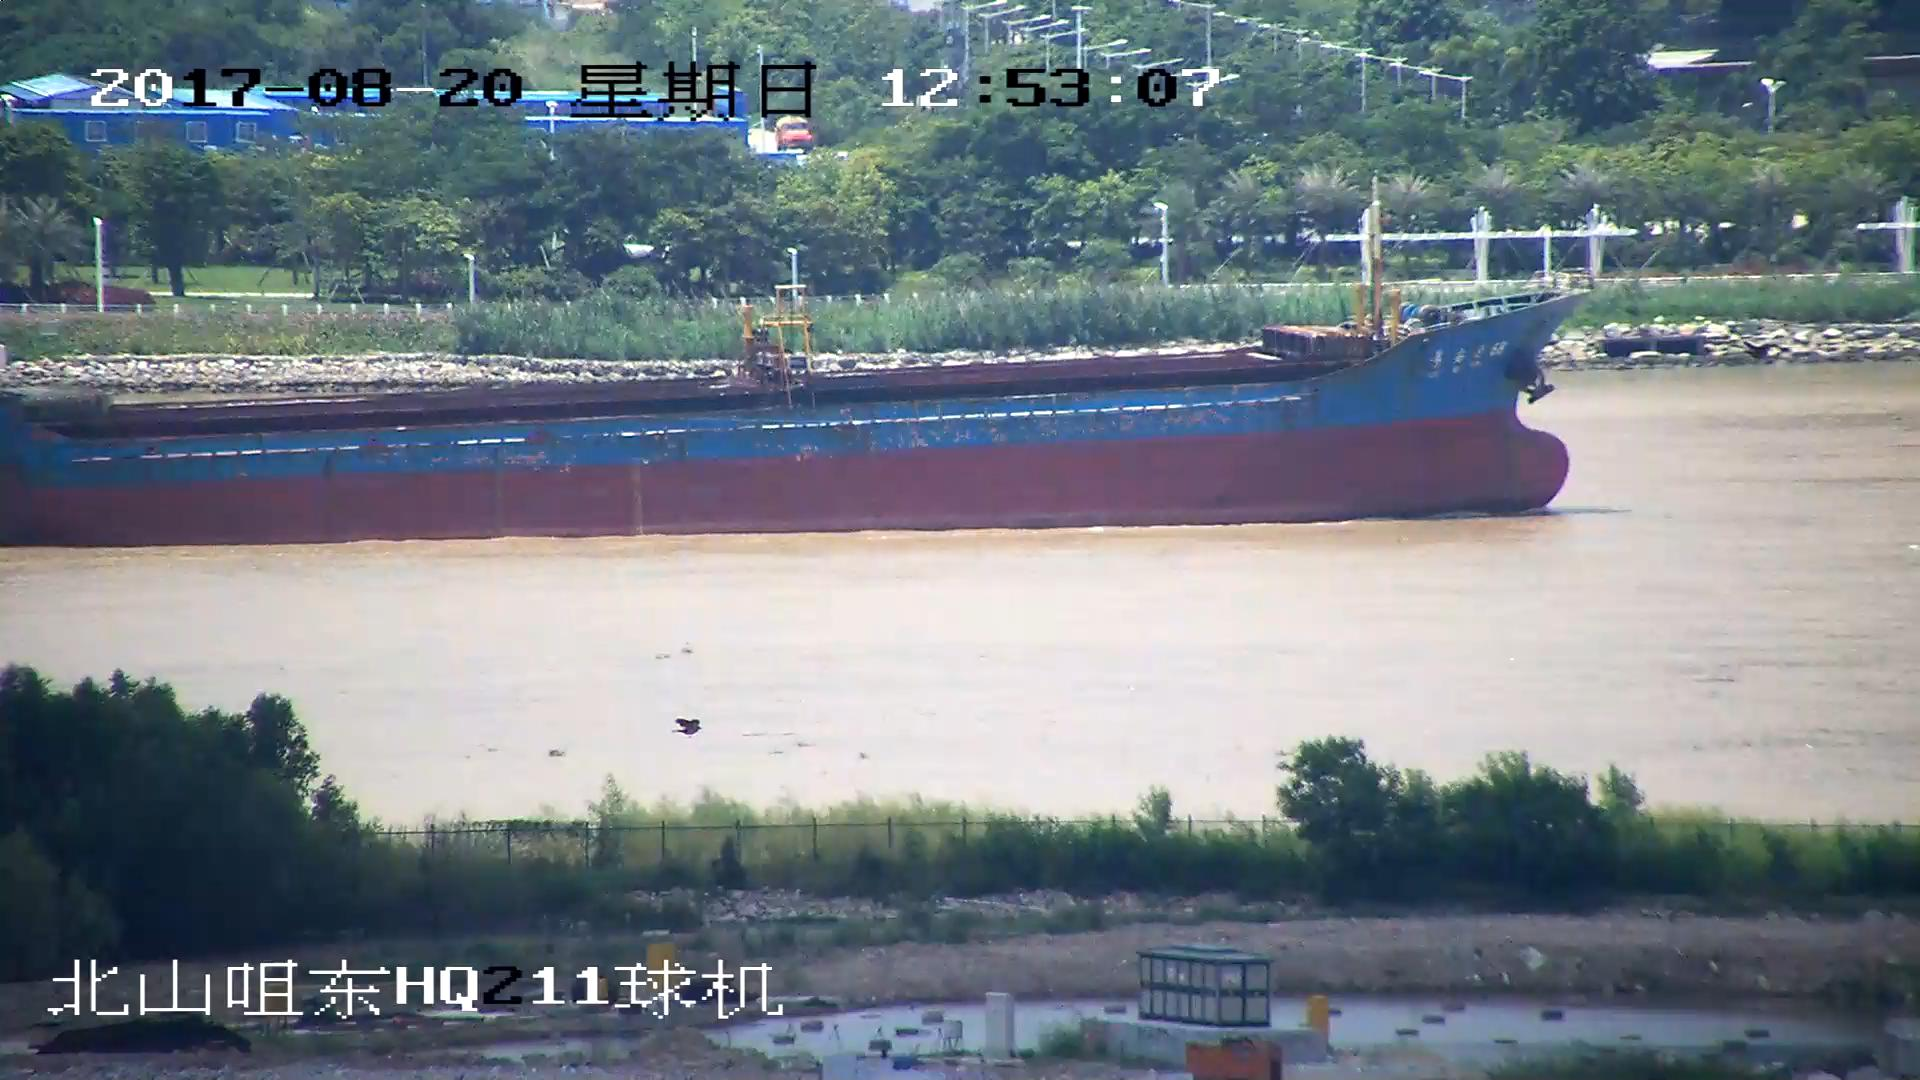general cargo ship: (1, 259, 1602, 542)
